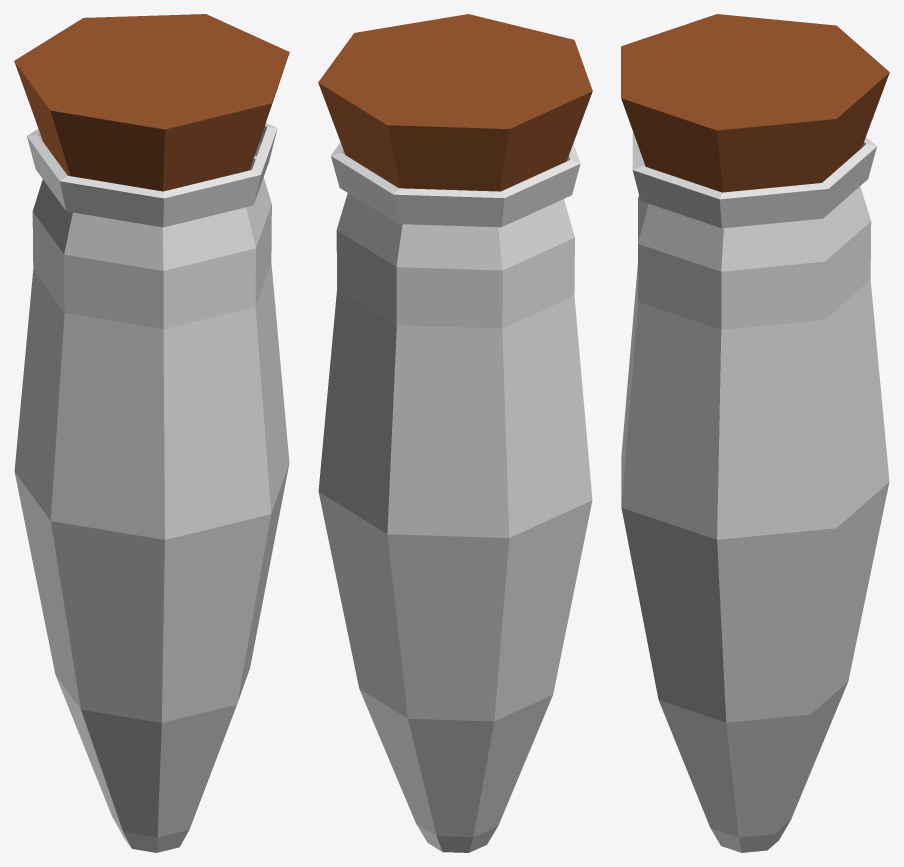
File: pocionAgua.fbx
The picture shows the model from 3 angles, left to right: view 1: azimuth 30°, elevation 25°; view 2: azimuth 150°, elevation 25°; view 3: azimuth 270°, elevation 25°; orthographic projection.
Visible parts, largest first — view 1: Liquido, Liquido.001; view 2: Liquido, Liquido.001; view 3: Liquido, Liquido.001.
Boxes of the visible parts, x1=… form: Liquido: x1=14, y1=123, x2=289, y2=852; Liquido.001: x1=14, y1=14, x2=289, y2=191; Liquido: x1=318, y1=142, x2=592, y2=852; Liquido.001: x1=318, y1=14, x2=592, y2=191; Liquido: x1=621, y1=131, x2=889, y2=852; Liquido.001: x1=621, y1=14, x2=889, y2=192.
Size of the model in its own units: 24.56 by 75.49 by 23.95.
